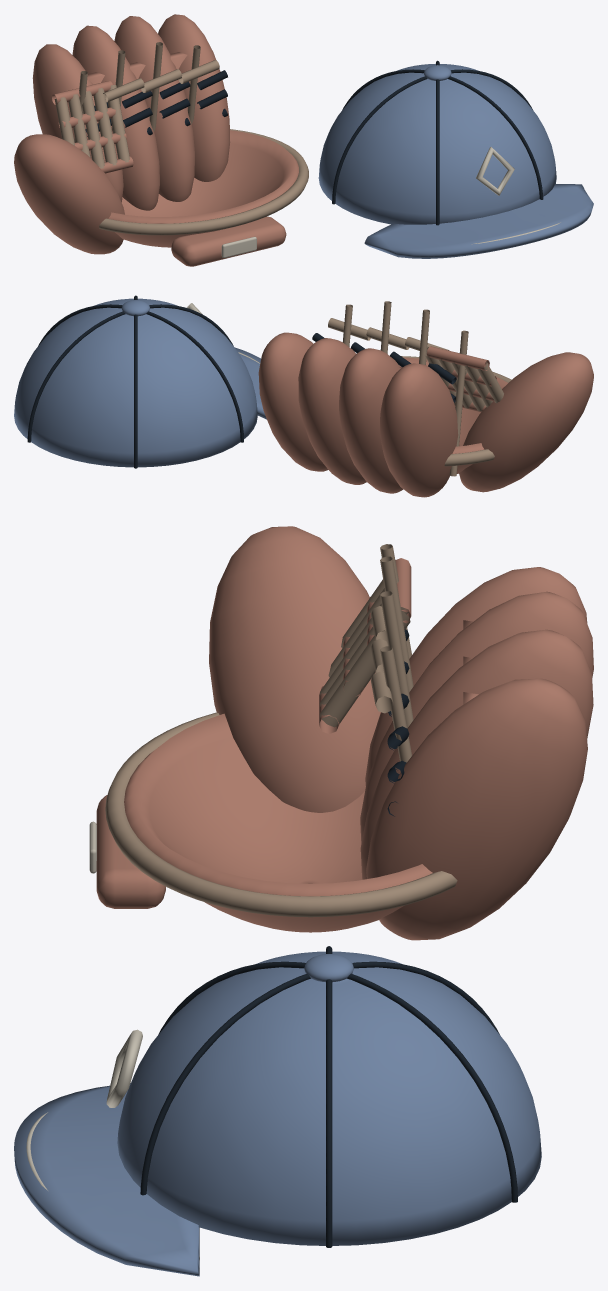
The model's file is room-baseball-glove-cap.glb.
3 renders of one model, top to bottom at view 1: azimuth 30°, elevation 25°; view 2: azimuth 150°, elevation 25°; view 3: azimuth 270°, elevation 25°, orthographic. The views are drawn at different scales.
Parts seen in each view (by area): view 1: room-baseball-glove-cap-clay, room-baseball-glove-cap-fabric, room-baseball-glove-cap-wood, room-baseball-glove-cap-coal, room-baseball-glove-cap-linen; view 2: room-baseball-glove-cap-clay, room-baseball-glove-cap-fabric, room-baseball-glove-cap-wood, room-baseball-glove-cap-coal; view 3: room-baseball-glove-cap-clay, room-baseball-glove-cap-fabric, room-baseball-glove-cap-wood, room-baseball-glove-cap-coal, room-baseball-glove-cap-linen.
Part boxes in pixels (x1=…): room-baseball-glove-cap-clay: x1=14, y1=14, x2=298, y2=266; room-baseball-glove-cap-fabric: x1=318, y1=63, x2=593, y2=258; room-baseball-glove-cap-wood: x1=54, y1=42, x2=308, y2=235; room-baseball-glove-cap-coal: x1=85, y1=60, x2=543, y2=225; room-baseball-glove-cap-linen: x1=221, y1=147, x2=560, y2=257; room-baseball-glove-cap-clay: x1=258, y1=332, x2=593, y2=497; room-baseball-glove-cap-fabric: x1=14, y1=298, x2=266, y2=467; room-baseball-glove-cap-wood: x1=328, y1=301, x2=511, y2=476; room-baseball-glove-cap-coal: x1=27, y1=295, x2=456, y2=468; room-baseball-glove-cap-clay: x1=96, y1=526, x2=593, y2=940; room-baseball-glove-cap-fabric: x1=14, y1=951, x2=541, y2=1276; room-baseball-glove-cap-wood: x1=105, y1=544, x2=457, y2=917; room-baseball-glove-cap-coal: x1=140, y1=629, x2=517, y2=1247; room-baseball-glove-cap-linen: x1=26, y1=821, x2=199, y2=1259.
Bounding box in the file's own units: 1.2 × 0.4351 × 0.6271.
